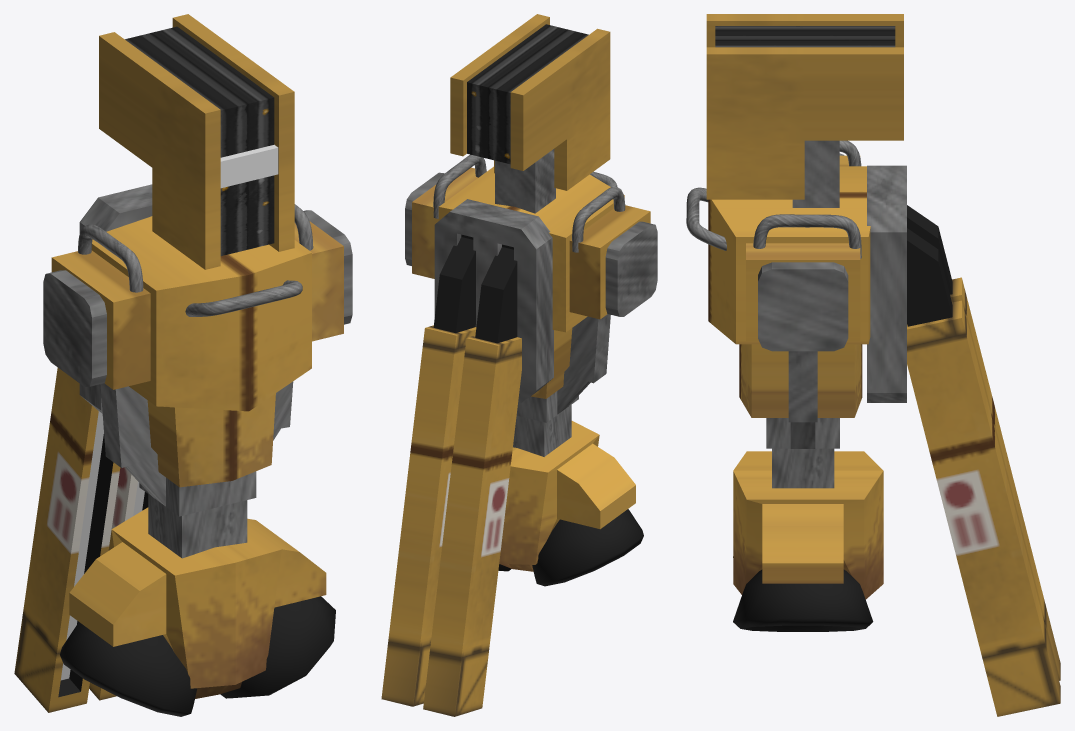
File: Robot 6 head and body.fbx
The picture shows the model from 3 angles, left to right: view 1: azimuth 30°, elevation 25°; view 2: azimuth 150°, elevation 25°; view 3: azimuth 270°, elevation 25°; orthographic projection. The views are drawn at different scales.
Visible parts, largest first — view 1: Cube.005, Cube.026, Cube.001, Cube.006, Cube.003, Cube.010; view 2: Cube.005, Cube.006, Cube.001, Cube.010, Cube.026, Cube.003, Cube.014; view 3: Cube.005, Cube.010, Cube.001, Cube.026, Cube.003, Cube.006, Cube.014.
Part boxes in pixels (<box>): Cube.005: <box>43,184,352,487</box>; Cube.026: <box>60,507,335,716</box>; Cube.001: <box>99,14,294,269</box>; Cube.006: <box>14,367,120,712</box>; Cube.003: <box>100,381,293,558</box>; Cube.010: <box>89,467,148,700</box>; Cube.005: <box>405,154,657,402</box>; Cube.006: <box>423,247,521,716</box>; Cube.001: <box>450,14,610,190</box>; Cube.010: <box>381,237,476,706</box>; Cube.026: <box>498,421,643,586</box>; Cube.003: <box>513,314,610,456</box>; Cube.014: <box>495,149,555,213</box>; Cube.005: <box>686,140,906,417</box>; Cube.010: <box>907,228,1060,716</box>; Cube.001: <box>706,14,903,199</box>; Cube.026: <box>733,451,883,631</box>; Cube.003: <box>766,351,839,488</box>; Cube.006: <box>907,205,1060,680</box>; Cube.014: <box>792,140,839,207</box>.
Bounding box in the file's own units: 277 × 724 × 371.
